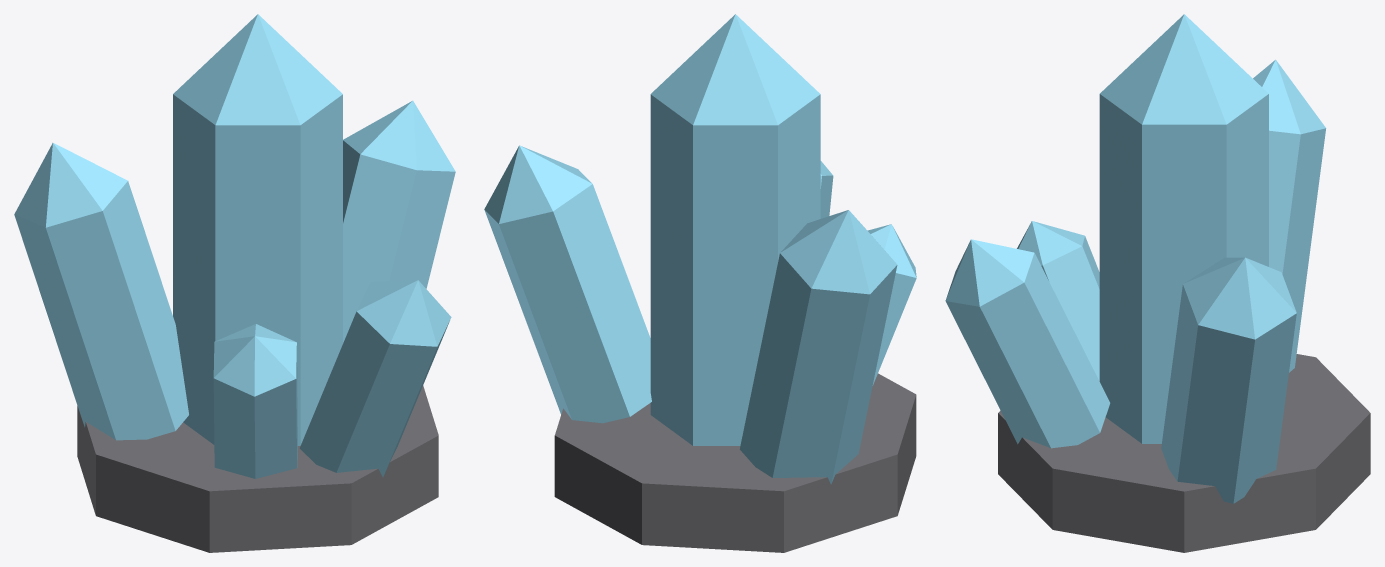
The model's file is GearFrostCore.obj.
The picture shows the model from 3 angles, left to right: view 1: azimuth 30°, elevation 25°; view 2: azimuth 150°, elevation 25°; view 3: azimuth 270°, elevation 25°; orthographic projection.
Parts seen in each view (by area): view 1: GearFrostCore; view 2: GearFrostCore; view 3: GearFrostCore.
Part boxes in pixels (<box>): GearFrostCore: <box>14,14,455,552</box>; GearFrostCore: <box>484,14,916,552</box>; GearFrostCore: <box>945,14,1370,552</box>.
Bounding box in the file's own units: 0.2748 × 0.3 × 0.2511.
